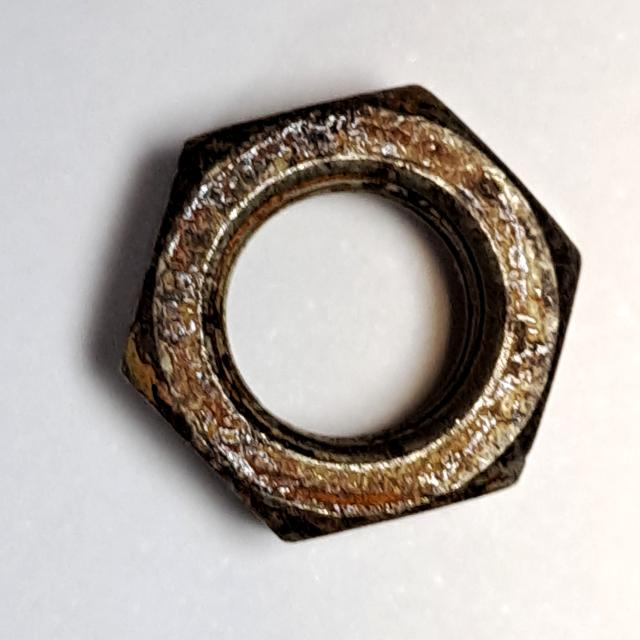Rust: (106, 70, 592, 558)
